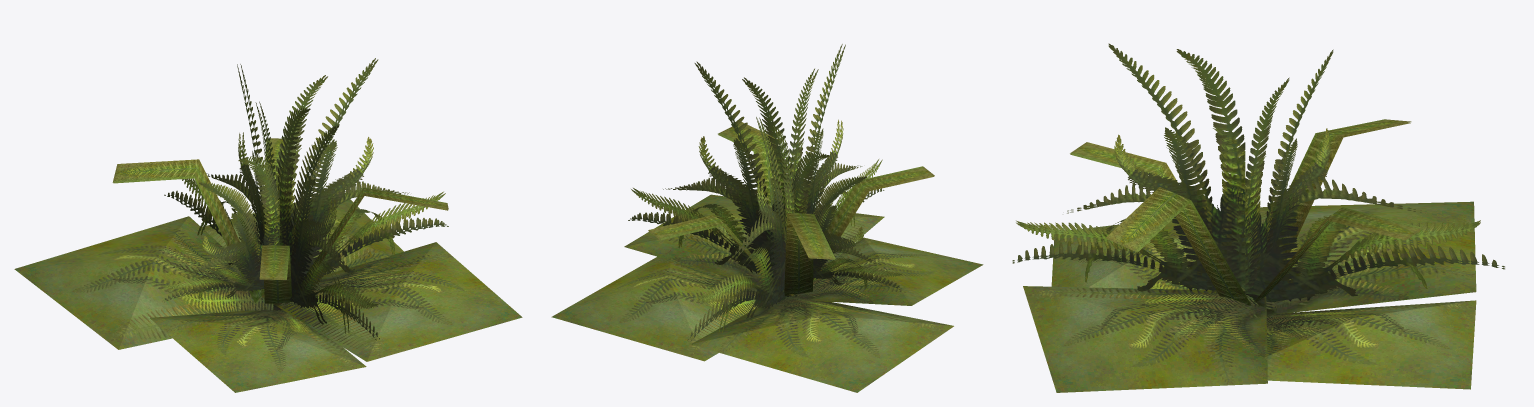
The model's file is frst_fern_olive_l2.fbx.
The picture shows the model from 3 angles, left to right: view 1: azimuth 30°, elevation 25°; view 2: azimuth 150°, elevation 25°; view 3: azimuth 270°, elevation 25°; orthographic projection. The views are drawn at different scales.
Parts seen in each view (by area): view 1: mesh_node; view 2: mesh_node; view 3: mesh_node.
Part boxes in pixels (left/top/right/bottom): mesh_node: left=14, top=58, right=522, bottom=392; mesh_node: left=551, top=44, right=983, bottom=392; mesh_node: left=1012, top=43, right=1504, bottom=392.
Size of the model in its own units: 3.31 by 2.41 by 3.65.
